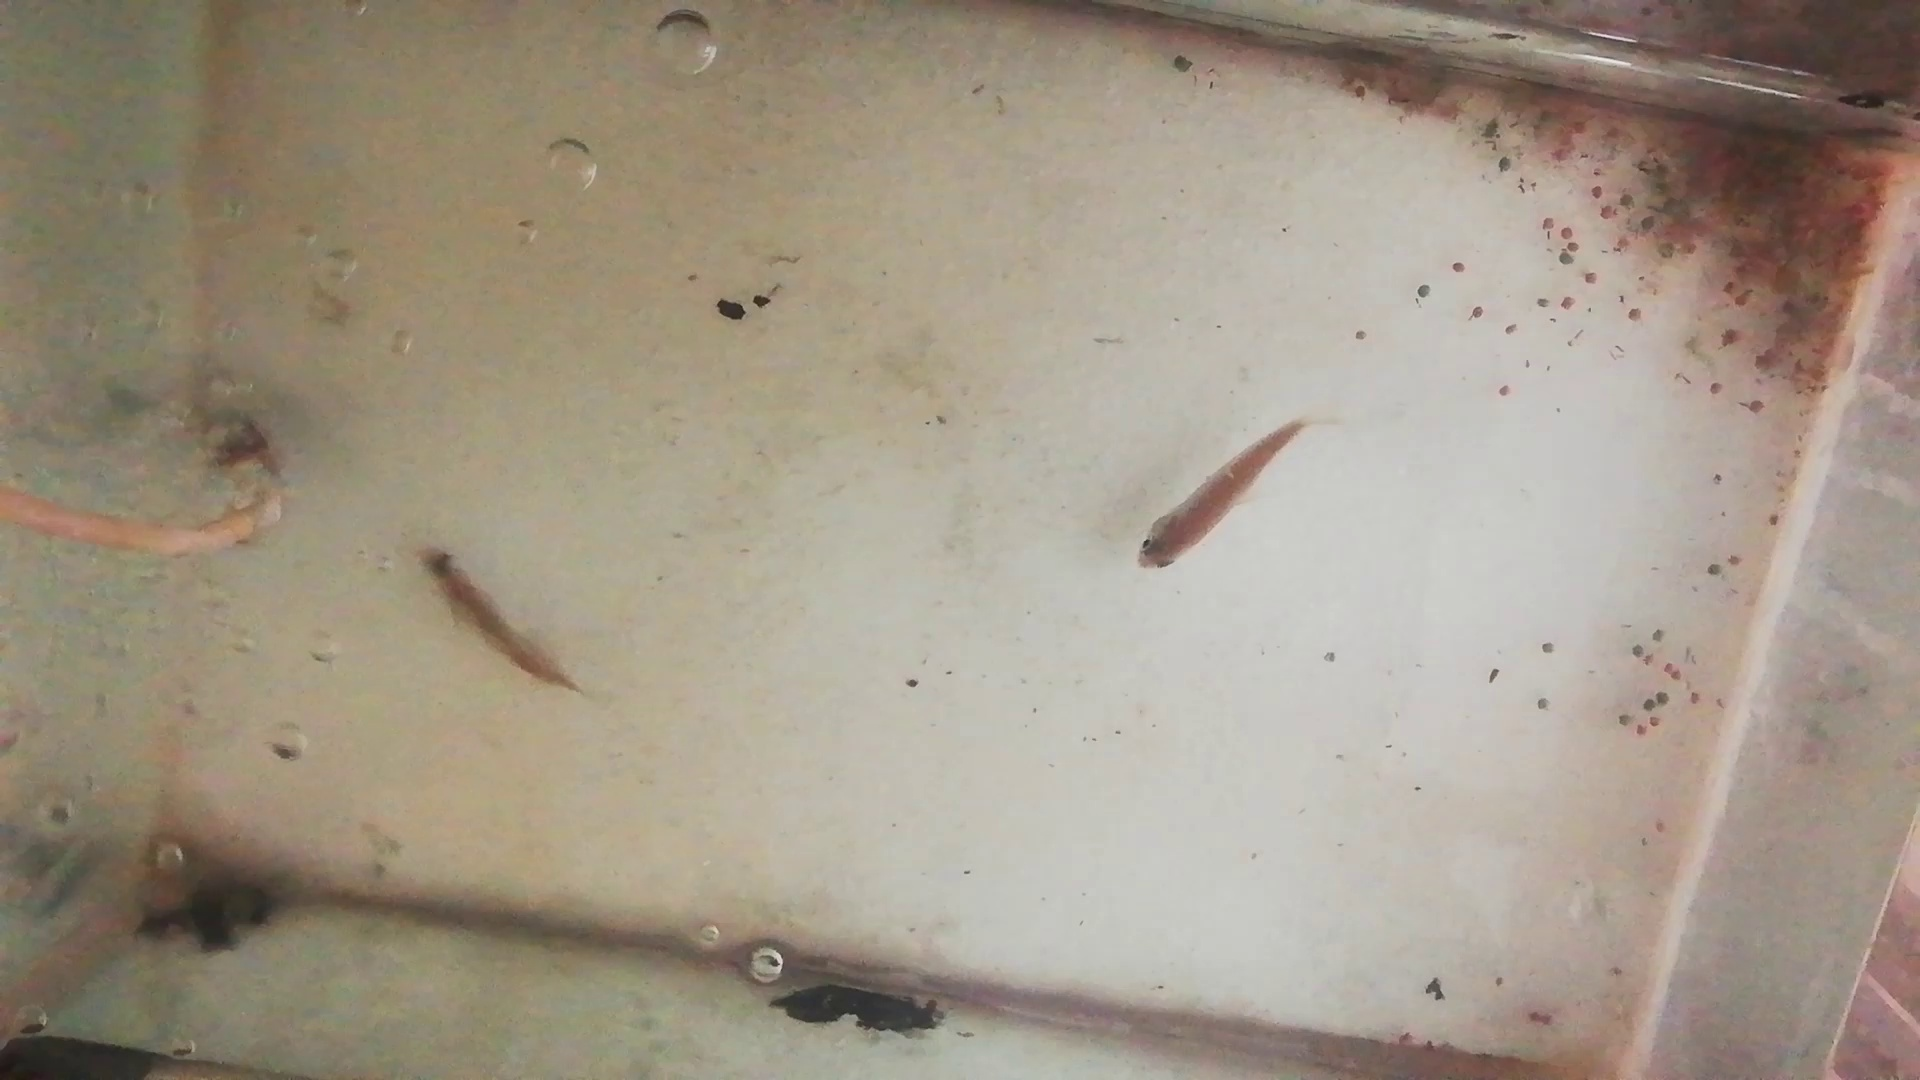fish: (1137, 419, 1305, 575), (414, 546, 574, 692)
